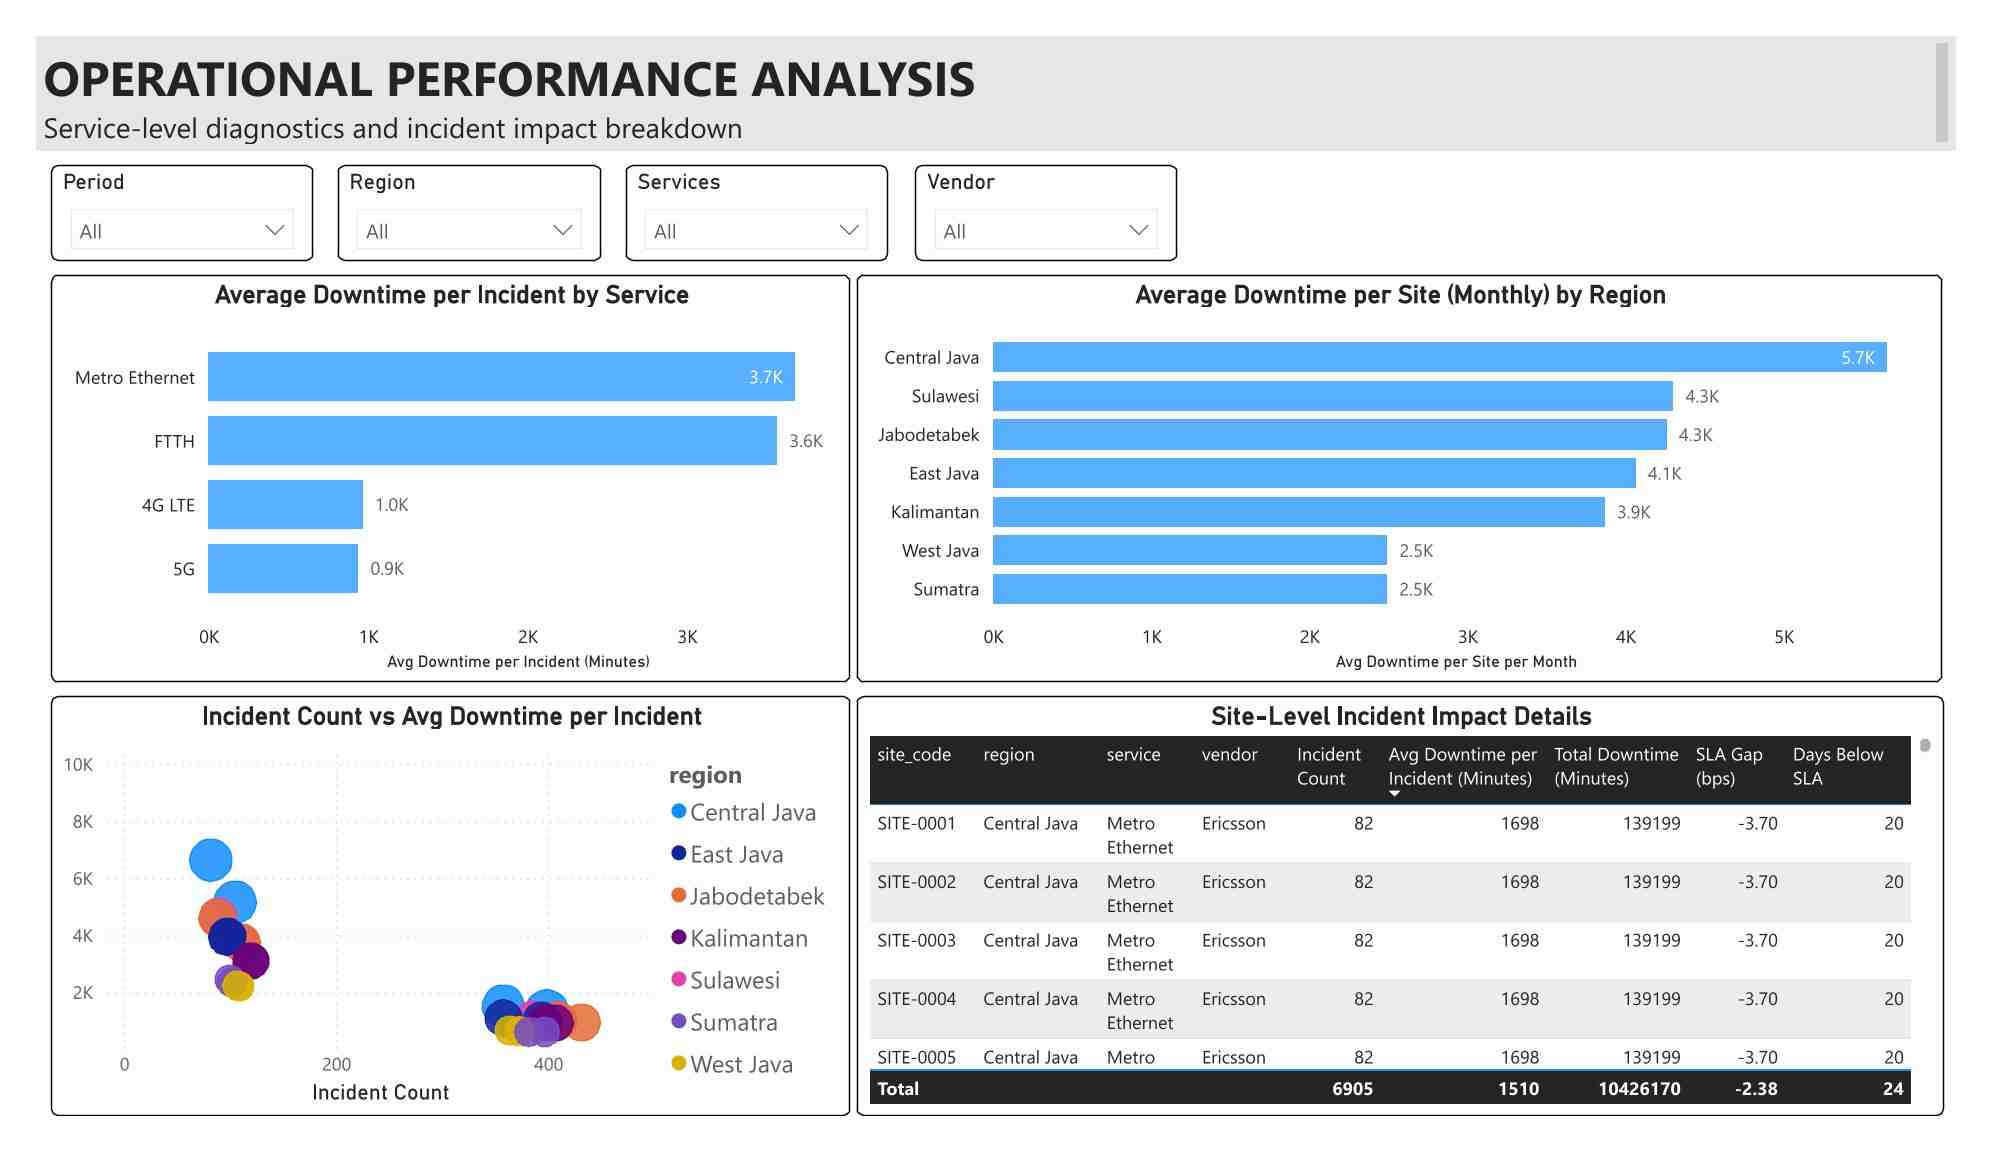

This screenshot's page, from the dashboard's own definition file:
{"tool":"powerbi","page":{"name":"OPERATIONAL ANALYSIS","canvas":[1280,720],"ordinal":1},"visuals":[{"type":"textbox","box":[0,0,1280,77.1],"z":0},{"type":"clusteredBarChart","title":"Average Downtime per Incident by Service","fields":{"Category":["dim_service.service"],"Y":["fact_network_kpi.Avg Downtime per Incident"]},"box":[10,158.6,532.9,272.9],"z":1000},{"type":"clusteredBarChart","title":"Average Downtime per Site (Monthly) by Region","fields":{"Category":["dim_region.region"],"Y":["fact_network_kpi.Avg Downtime per Site per Month"]},"box":[547.1,158.6,724.3,272.9],"z":2000},{"type":"slicer","title":"Services","fields":{"Values":["dim_service.service"]},"box":[392.9,85.7,175,64.3],"z":3000},{"type":"slicer","title":"Vendor","fields":{"Values":["dim_vendor.vendor"]},"box":[585.7,85.7,175.7,64.3],"z":4000},{"type":"scatterChart","title":"Incident Count vs Avg Downtime per Incident","fields":{"X":["fact_incident.Incident Count"],"Size":["fact_network_kpi.Total Downtime (Minutes)"],"Y":["fact_network_kpi.Avg Downtime per Incident"],"Category":["dim_service.service"],"Series":["dim_region.region"]},"box":[10,440,533.3,280],"z":5000},{"type":"tableEx","title":"Site-Level Incident Impact Details","fields":{"Values":["dim_site.site_code","dim_region.region","dim_service.service","dim_vendor.vendor","fact_incident.Incident Count","fact_network_kpi.Avg Downtime per Incident","fact_network_kpi.Total Downtime (Minutes)","fact_network_kpi.SLA Gap (bps)","fact_network_kpi.Days Below SLA"]},"box":[546.8,440,725,280],"z":6000},{"type":"slicer","title":"Region","fields":{"Values":["dim_region.region"]},"box":[201.4,85.7,175.7,64.3],"z":7000},{"type":"slicer","title":"Period","fields":{"Values":["dim_date.year_month"]},"box":[10,85.7,175,64.3],"z":8000}]}

Visuals, with their boxes in screenshot pixels (x1, y1, x2, y2), scaled from the page's 1280x720 canvas onto the 1992x1152 screenshot:
textbox: rect(0, 0, 1991, 123)
"Average Downtime per Incident by Service" clusteredBarChart: rect(16, 254, 845, 690)
"Average Downtime per Site (Monthly) by Region" clusteredBarChart: rect(851, 254, 1979, 690)
"Services" slicer: rect(611, 137, 884, 240)
"Vendor" slicer: rect(911, 137, 1185, 240)
"Incident Count vs Avg Downtime per Incident" scatterChart: rect(16, 704, 846, 1151)
"Site-Level Incident Impact Details" tableEx: rect(851, 704, 1979, 1151)
"Region" slicer: rect(313, 137, 587, 240)
"Period" slicer: rect(16, 137, 288, 240)
